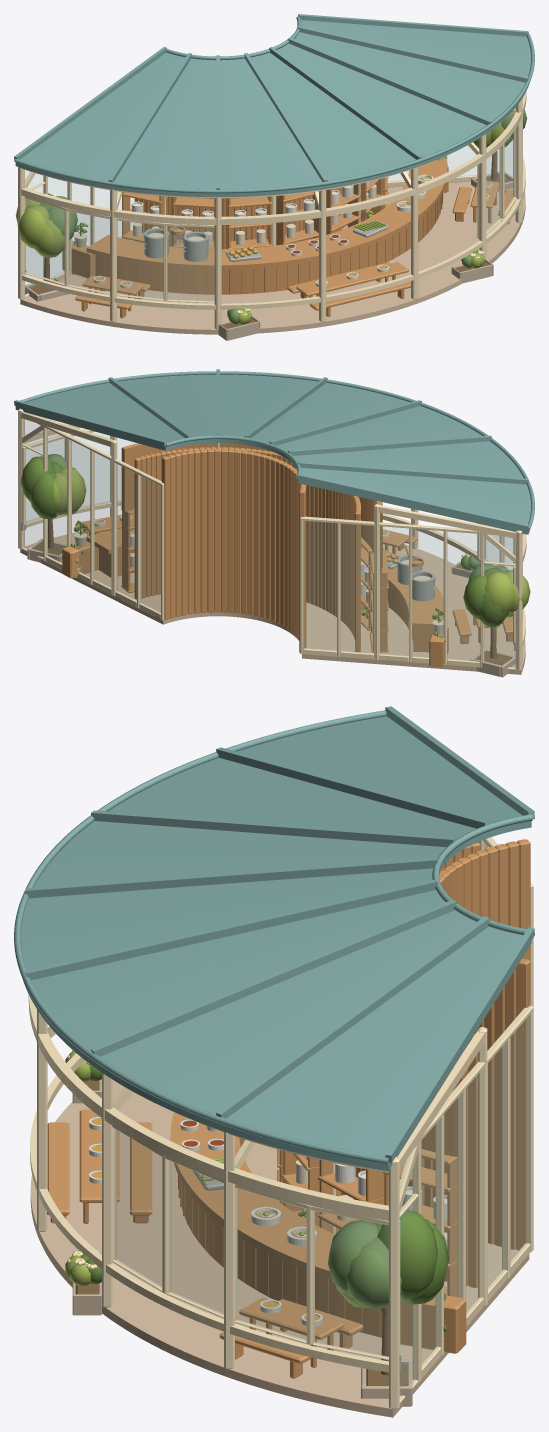
Rendered from 08-B-0554e0d8daac.glb.
The picture shows the model from 3 angles, top to bottom: view 1: azimuth 30°, elevation 25°; view 2: azimuth 150°, elevation 25°; view 3: azimuth 270°, elevation 25°; orthographic projection. The views are drawn at different scales.
Visible parts, largest first — view 1: R 独立扇面金属屋顶, A 外圈玻璃围护, S 扇形面馆室内地面, R 扇形放射金属立缝, A 弧形奶油格架横梁, I 弧形木服务柜, A 奶油色放射立柱, I 弧形出餐台面, A 扇形端部围护, R 屋顶弧形包边, L 乔木 · 枝干与树冠, I 弧形备料架层板 (+14 smaller); view 2: A 扇形端部围护, R 独立扇面金属屋顶, A 后勤凹弧背墙, A 后厨弧形实木背墙, S 扇形面馆室内地面, R 扇形放射金属立缝, L 乔木 · 枝干与树冠, A 外圈玻璃围护, R 屋顶弧形包边, A 后厨上方弧木门楣, A 奶油色放射立柱, R 屋下放射木梁 (+14 smaller); view 3: R 独立扇面金属屋顶, A 外圈玻璃围护, R 扇形放射金属立缝, S 扇形面馆室内地面, A 扇形端部围护, A 后勤凹弧背墙, A 弧形奶油格架横梁, A 奶油色放射立柱, L 乔木 · 枝干与树冠, R 屋顶弧形包边, I 弧形出餐台面, I 弧形木服务柜 (+15 smaller).
Part boxes in pixels (x1,y1,x2,y2): R 独立扇面金属屋顶: (15,20,530,196); A 外圈玻璃围护: (25,115,522,303); S 扇形面馆室内地面: (20,181,525,334); R 扇形放射金属立缝: (14,14,528,189); A 弧形奶油格架横梁: (21,91,526,309); I 弧形木服务柜: (96,195,441,294); A 奶油色放射立柱: (18,98,522,329); I 弧形出餐台面: (86,160,447,269); A 扇形端部围护: (25,141,513,297); R 屋顶弧形包边: (14,16,534,193); L 乔木 · 枝干与树冠: (15,108,527,281); I 弧形备料架层板: (121,177,388,249); A 扇形端部围护: (21,419,516,670); R 独立扇面金属屋顶: (15,374,530,534); A 后勤凹弧背墙: (162,449,306,652); A 后厨弧形实木背墙: (134,447,360,652); S 扇形面馆室内地面: (20,530,525,674); R 扇形放射金属立缝: (14,369,528,530); L 乔木 · 枝干与树冠: (20,454,530,658); A 外圈玻璃围护: (22,429,522,644); R 屋顶弧形包边: (20,371,534,530); A 后厨上方弧木门楣: (121,443,381,573); A 奶油色放射立柱: (18,408,522,670); R 屋下放射木梁: (21,412,516,538); R 独立扇面金属屋顶: (21,716,531,1170); A 外圈玻璃围护: (112,1126,400,1360); R 扇形放射金属立缝: (25,706,534,1162); S 扇形面馆室内地面: (30,1080,529,1417); A 扇形端部围护: (399,837,533,1403); A 后勤凹弧背墙: (439,839,530,1250); A 弧形奶油格架横梁: (28,995,388,1372); A 奶油色放射立柱: (37,1009,399,1409); L 乔木 · 枝干与树冠: (328,1210,449,1375); R 屋顶弧形包边: (14,710,532,1164); I 弧形出餐台面: (170,1112,334,1279); I 弧形木服务柜: (180,1138,382,1337).
Bounding box in the file's own units: 22.69 × 7.73 × 11.09.
